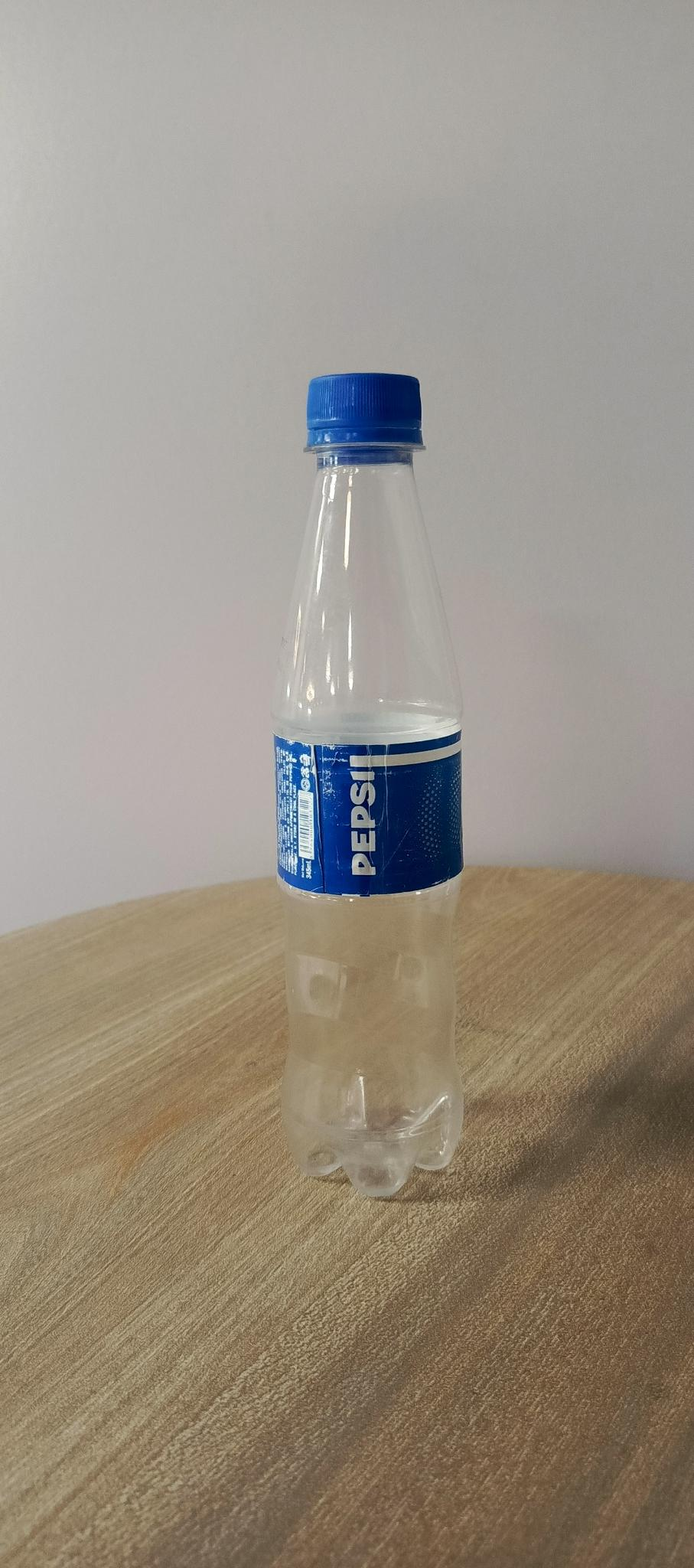Pepsi Bottle: (263, 365, 496, 1205), (261, 365, 477, 1194)
